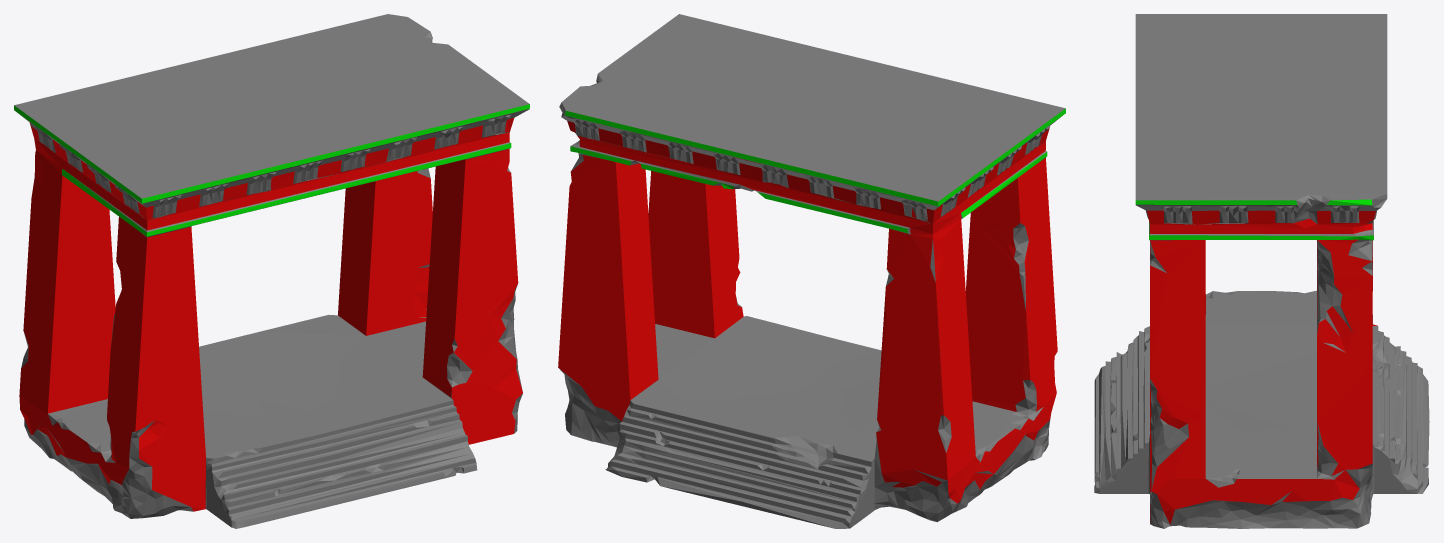
File: Arch04.fbx
The picture shows the model from 3 angles, left to right: view 1: azimuth 30°, elevation 25°; view 2: azimuth 150°, elevation 25°; view 3: azimuth 270°, elevation 25°; orthographic projection.
Parts seen in each view (by area): view 1: Arch04; view 2: Arch04; view 3: Arch04.
Boxes of the visible parts, bbox=[...] form: Arch04: bbox=[14, 14, 529, 528]; Arch04: bbox=[558, 14, 1065, 528]; Arch04: bbox=[1094, 14, 1429, 528].
Bounding box in the file's own units: 2001 × 1633 × 1504.
